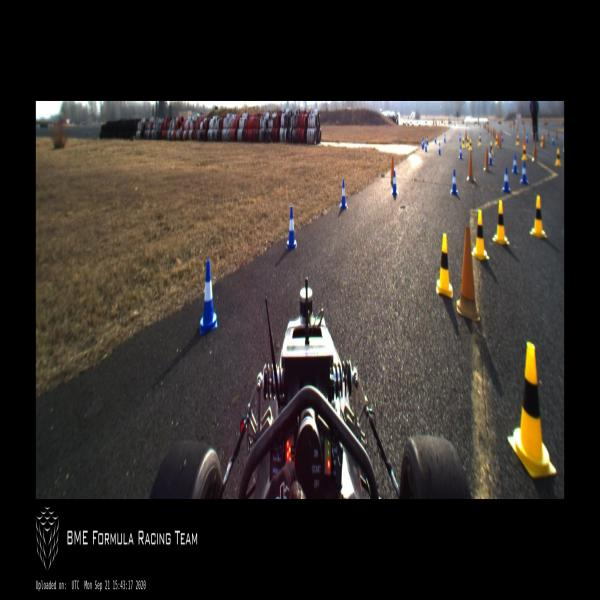blue_cone: (200, 260, 217, 334), (287, 206, 296, 249), (340, 180, 348, 208), (520, 161, 529, 184), (450, 170, 458, 194), (503, 167, 510, 192), (392, 171, 397, 195), (512, 154, 518, 173), (489, 150, 493, 165), (459, 145, 463, 159), (438, 142, 441, 154), (425, 140, 427, 150), (444, 133, 446, 142), (459, 133, 461, 141), (422, 139, 423, 149), (435, 135, 436, 143)
yellow_cone: (507, 340, 557, 479), (436, 234, 453, 299), (472, 210, 489, 259), (492, 199, 510, 245), (530, 195, 547, 238), (556, 148, 561, 166), (522, 145, 527, 159), (490, 141, 493, 154), (516, 136, 519, 145), (470, 138, 472, 150), (462, 138, 464, 148), (466, 136, 468, 146), (479, 136, 481, 146), (496, 136, 498, 145)
